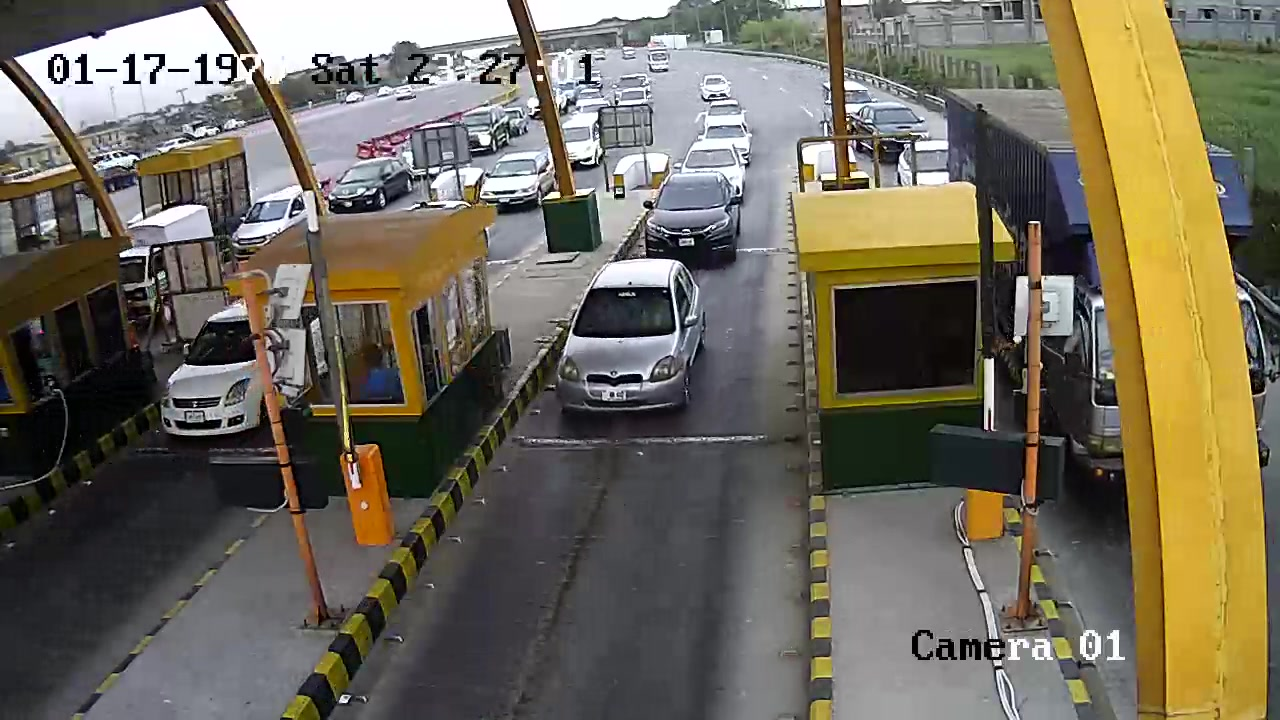F1: (550, 254, 719, 426)
